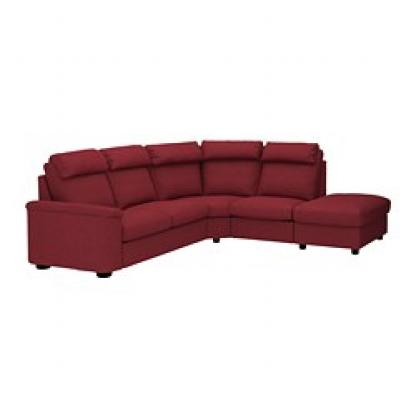Sofa: (17, 132, 394, 301)
